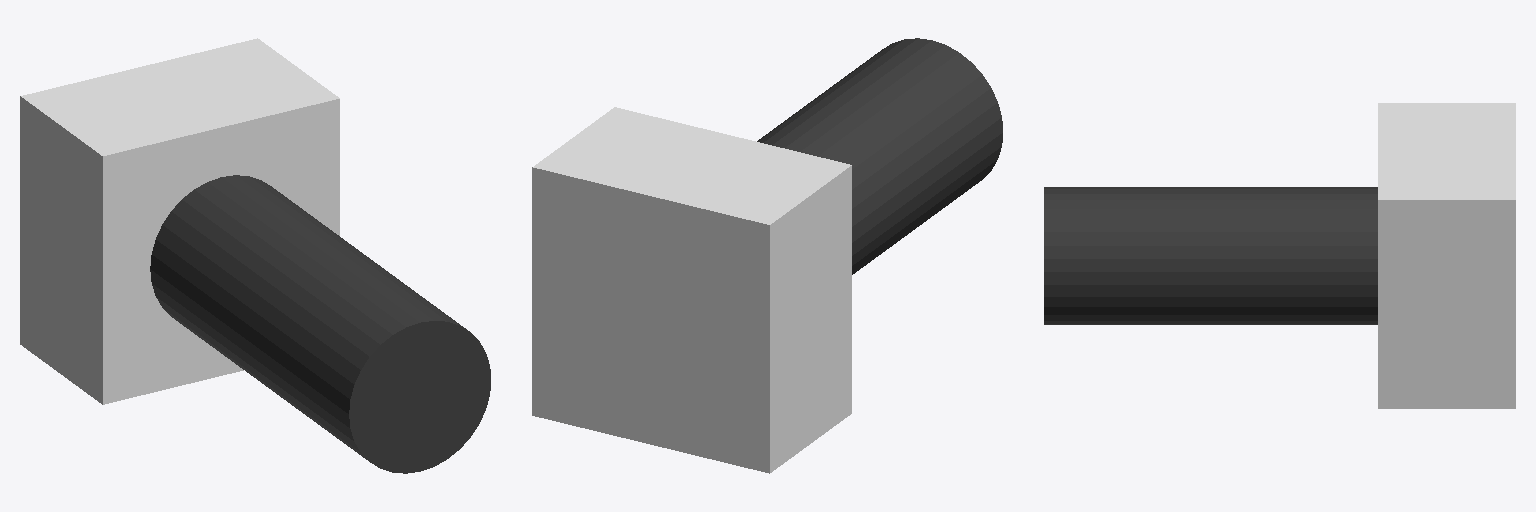
URDF robot description (universal_robot):
<?xml version="1.0" ?>
<!--FOR GRIPPER, THERE IS NO LINK INERTIA DEFINED HERE-->
<robot name="universal_robot">

  <link name="base_link">
    <visual>
      <geometry>
        <mesh filename="./meshes/ur5/visual/base.obj"/>
      </geometry>
      <material name="LightGrey">
        <color rgba="0.7 0.7 0.7 1.0"/>
      </material>
    </visual>
    <collision>
      <geometry>
        <mesh filename="meshes/ur5/collision/base.stl"/>
      </geometry>
    </collision>
    <inertial>
      <mass value="4.0"/>
      <origin rpy="0 0 0" xyz="0.0 0.0 0.0"/>
      <inertia ixx="0.00443333156" ixy="0.0" ixz="0.0" iyy="0.00443333156" iyz="0.0" izz="0.0072"/>
    </inertial>
  </link>

  <joint name="shoulder_pan_joint" type="revolute">
    <parent link="base_link"/>
    <child link="shoulder_link"/>
    <origin rpy="0.0 0.0 0.0" xyz="0.0 0.0 0.089159"/>
    <axis xyz="0 0 1"/>
    <limit effort="150.0" lower="-6.28318530718" upper="6.28318530718" velocity="3.15"/>
    <dynamics damping="0.0" friction="0.0"/>
  </joint>
  
  <link name="shoulder_link">
    <visual>
      <geometry>
        <mesh filename="/meshes/ur5/visual/shoulder.obj"/>
      </geometry>
      <material name="LightGrey">
        <color rgba="0.7 0.7 0.7 1.0"/>
      </material>
    </visual>
    <collision>
      <geometry>
        <mesh filename="./meshes/ur5/collision/shoulder.stl"/>
      </geometry>
    </collision>
    <inertial>
      <mass value="3.7"/>
      <origin rpy="0 0 0" xyz="0.0 0.0 0.0"/>
      <inertia ixx="0.010267495893" ixy="0.0" ixz="0.0" iyy="0.010267495893" iyz="0.0" izz="0.00666"/>
    </inertial>
  </link>

  <joint name="shoulder_lift_joint" type="revolute">
    <parent link="shoulder_link"/>
    <child link="upper_arm_link"/>
    <origin rpy="0.0 1.57079632679 0.0" xyz="0.0 0.13585 0.0"/>
    <axis xyz="0 1 0"/>
    <limit effort="150.0" lower="-6.28318530718" upper="6.28318530718" velocity="3.15"/>
    <dynamics damping="0.0" friction="0.0"/>
  </joint>

  <link name="upper_arm_link">
    <visual>
      <geometry>
        <mesh filename="/meshes/ur5/visual/upperarm.obj"/>
      </geometry>
      <material name="LightGrey">
        <color rgba="0.7 0.7 0.7 1.0"/>
      </material>
    </visual>
    <collision>
      <geometry>
        <mesh filename="./meshes/ur5/collision/upperarm.stl"/>
      </geometry>
    </collision>
    <inertial>
      <mass value="8.393"/>
      <origin rpy="0 0 0" xyz="0.0 0.0 0.28"/>
      <inertia ixx="0.22689067591" ixy="0.0" ixz="0.0" iyy="0.22689067591" iyz="0.0" izz="0.0151074"/>
    </inertial>
  </link>

  <joint name="elbow_joint" type="revolute">
    <parent link="upper_arm_link"/>
    <child link="forearm_link"/>
    <origin rpy="0.0 0.0 0.0" xyz="0.0 -0.1197 0.425"/>
    <axis xyz="0 1 0"/>
    <limit effort="150.0" lower="-3.14159265359" upper="3.14159265359" velocity="3.15"/>
    <dynamics damping="0.0" friction="0.0"/>
  </joint>

  <link name="forearm_link">
    <visual>
      <geometry>
        <mesh filename="/meshes/ur5/visual/forearm.obj"/>
      </geometry>
      <material name="LightGrey">
        <color rgba="0.7 0.7 0.7 1.0"/>
      </material>
    </visual>
    <collision>
      <geometry>
        <mesh filename="./meshes/ur5/collision/forearm.stl"/>
      </geometry>
    </collision>
    <inertial>
      <mass value="2.275"/>
      <origin rpy="0 0 0" xyz="0.0 0.0 0.25"/>
      <inertia ixx="0.049443313556" ixy="0.0" ixz="0.0" iyy="0.049443313556" iyz="0.0" izz="0.004095"/>
    </inertial>
  </link>

  <joint name="wrist_1_joint" type="revolute">
    <parent link="forearm_link"/>
    <child link="wrist_1_link"/>
    <origin rpy="0.0 1.57079632679 0.0" xyz="0.0 0.0 0.39225"/>
    <axis xyz="0 1 0"/>
    <limit effort="28.0" lower="-6.28318530718" upper="6.28318530718" velocity="3.2"/>
    <dynamics damping="0.0" friction="0.0"/>
  </joint>

  <link name="wrist_1_link">
    <visual>
      <geometry>
        <mesh filename="./meshes/ur5/visual/wrist1.obj"/>
      </geometry>
      <material name="LightGrey">
        <color rgba="0.7 0.7 0.7 1.0"/>
      </material>
    </visual>
    <collision>
      <geometry>
        <mesh filename="./meshes/ur5/collision/wrist1.stl"/>
      </geometry>
    </collision>
    <inertial>
      <mass value="1.219"/>
      <origin rpy="0 0 0" xyz="0.0 0.0 0.0"/>
      <inertia ixx="0.111172755531" ixy="0.0" ixz="0.0" iyy="0.111172755531" iyz="0.0" izz="0.21942"/>
    </inertial>
  </link>

  <joint name="wrist_2_joint" type="revolute">
    <parent link="wrist_1_link"/>
    <child link="wrist_2_link"/>
    <origin rpy="0.0 0.0 0.0" xyz="0.0 0.093 0.0"/>
    <axis xyz="0 0 1"/>
    <limit effort="28.0" lower="-6.28318530718" upper="6.28318530718" velocity="3.2"/>
    <dynamics damping="0.0" friction="0.0"/>
  </joint>

  <link name="wrist_2_link">
    <visual>
      <geometry>
        <mesh filename="./meshes/ur5/visual/wrist2.obj"/>
      </geometry>
      <material name="LightGrey">
        <color rgba="0.7 0.7 0.7 1.0"/>
      </material>
    </visual>
    <collision>
      <geometry>
        <mesh filename="./meshes/ur5/collision/wrist2.stl"/>
      </geometry>
    </collision>
    <inertial>
      <mass value="1.219"/>
      <origin rpy="0 0 0" xyz="0.0 0.0 0.0"/>
      <inertia ixx="0.111172755531" ixy="0.0" ixz="0.0" iyy="0.111172755531" iyz="0.0" izz="0.21942"/>
    </inertial>
  </link>

  <joint name="wrist_3_joint" type="revolute">
    <parent link="wrist_2_link"/>
    <child link="wrist_3_link"/>
    <origin rpy="0.0 0.0 0.0" xyz="0.0 0.0 0.09465"/>
    <axis xyz="0 1 0"/>
    <limit effort="28.0" lower="-6.28318530718" upper="6.28318530718" velocity="3.2"/>
    <dynamics damping="0.0" friction="0.0"/>
  </joint>

  <link name="wrist_3_link">
    <visual>
      <geometry>
        <mesh filename="./meshes/ur5/visual/wrist3.obj"/>
      </geometry>
      <material name="LightGrey">
        <color rgba="0.7 0.7 0.7 1.0"/>
      </material>
    </visual>
    <collision>
      <geometry>
        <mesh filename="./meshes/ur5/collision/wrist3.stl"/>
      </geometry>
    </collision>
    <inertial>
      <mass value="0.1879"/>
      <origin rpy="0 0 0" xyz="0.0 0.0 0.0"/>
      <inertia ixx="0.0171364731454" ixy="0.0" ixz="0.0" iyy="0.0171364731454" iyz="0.0" izz="0.033822"/>
    </inertial>
  </link>

  <joint name="ee_fixed_joint" type="fixed">
    <parent link="wrist_3_link"/>
    <child link="peg1"/>
    <origin rpy="0.0 0.0 1.57079632679" xyz="0.0 0.0823 0.0"/>
  </joint>

  <!-- <link name="ee_link">
    <collision>
      <geometry>
        <box size="0.01 0.01 0.01"/>
      </geometry>
      <origin rpy="0 0 0" xyz="-0.01 0 0"/>
    </collision>
  </link> -->

  <link name="peg1">
    <visual>
      <origin rpy="0 1.57079632679 0" xyz="0 0 0"/>
      <geometry>
        <cylinder radius="0.015" length="0.075"/>
      </geometry>
      <material name="stainless">
        <color rgba="0.3 0.3 0.3 1.0"/>
      </material>      
    </visual>
    <collision>
      <origin rpy="0 1.57079632679 0" xyz="0 0 0"/>
      <geometry>
        <cylinder radius="0.015" length="0.075"/>
      </geometry>
    </collision>
    <inertial>
      <mass value="1.0"/>
      <origin rpy="0 0 0" xyz="0.0 0.0 0.0"/>
      <inertia ixx="0.005" iyy="0.005" izz="0.0072"/>
    </inertial>
  </link>

  <joint name="peg_joint" type="fixed">
    <origin xyz="0.0 0.0 0.0" rpy="0 0 0"/>
    <parent link="peg1"/>
    <child link="peg2"/>
  </joint>

 <link
    name="peg2">
    <inertial>
      <origin
        xyz="0.0 0.0 0.0"
        rpy="0 0 0" />
      <mass
        value="5.0" />
      <inertia
        ixx="0.003"
        ixy="0.0"
        ixz="0.0"
        iyy="0.003"
        iyz="0.0"
        izz="0.003" />
    </inertial>
    <visual>
      <origin
        xyz="0.05 0.0 0"
        rpy="0 0 0" />
      <geometry>
        <box 
	  size="0.03 0.05 0.05" />
      </geometry>
      <material
        name="stainless">
        <color
          rgba="0.93333 0.93333 0.93333 1" />
      </material>
    </visual>
    <collision>
      <origin
        xyz="0.05 0.0 0"
        rpy="0 0 0" />
      <geometry>
        <box 
	  size="0.03 0.05 0.05" />
      </geometry>
    </collision>
  <gazebo>
    <static>true</static>
  </gazebo>
  </link>
<!--################################################
  ########          connect model                #####
  ####################################################-->
  <link name="world"/>
  <joint name="world_arm_joint" type="fixed">
    <parent link="world"/>
    <child link="base_link"/>
    <origin rpy="0.0 0.0 0" xyz="0 0 0.8"/>
  </joint>

</robot>

--- Facts derived from the render (not from the file) ---
The picture shows the robot from 3 angles, left to right: view 1: azimuth 30°, elevation 25°; view 2: azimuth 150°, elevation 25°; view 3: azimuth 270°, elevation 25°; orthographic projection.
Robot: universal_robot — 10 links, 9 joints (6 revolute, 3 fixed); root link world; default pose: every joint at zero.
Links seen in each view (by area): view 1: peg2, peg1; view 2: peg2, peg1; view 3: peg1, peg2.
Boxes of the visible links, box(x1,y1,x2,y2) form: peg2: box(20, 38, 339, 404); peg1: box(150, 175, 490, 473); peg2: box(532, 107, 851, 473); peg1: box(757, 38, 1002, 274); peg1: box(1044, 187, 1377, 324); peg2: box(1378, 103, 1515, 408).
Size in the robot's own frame: 0.05 by 0.1025 by 0.05 metres.
Meshes: 4 distinct files referenced, 0 mesh visuals loaded (none loaded); not drawn: 4 (reference not matched to a file when rendering), 3 (reference in a form the renderer does not follow; not among the files counted above).